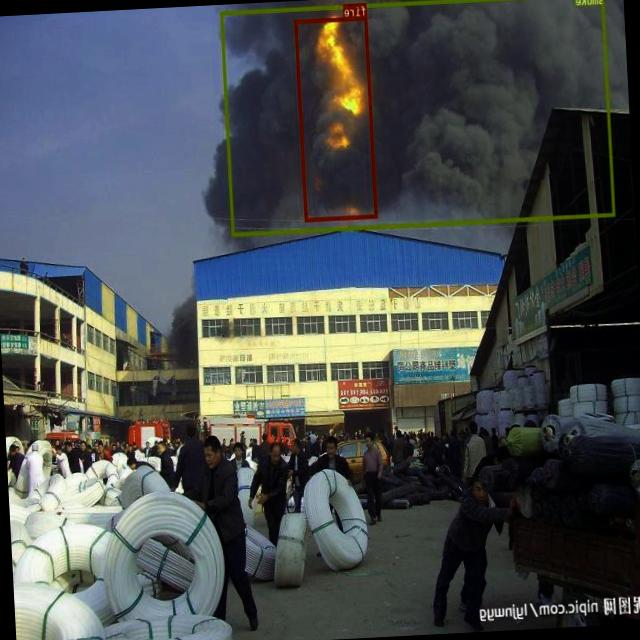fire: (296, 16, 378, 221)
smoke: (221, 0, 616, 235)
